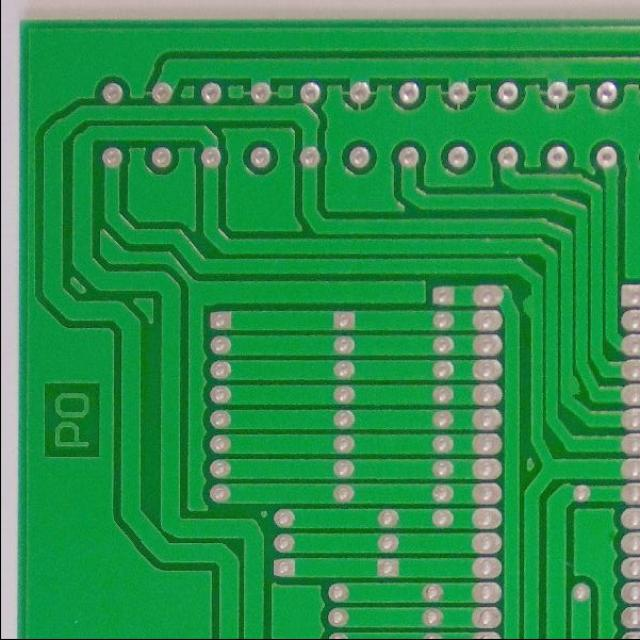Spur: (518, 288, 548, 324), (554, 368, 584, 402)
